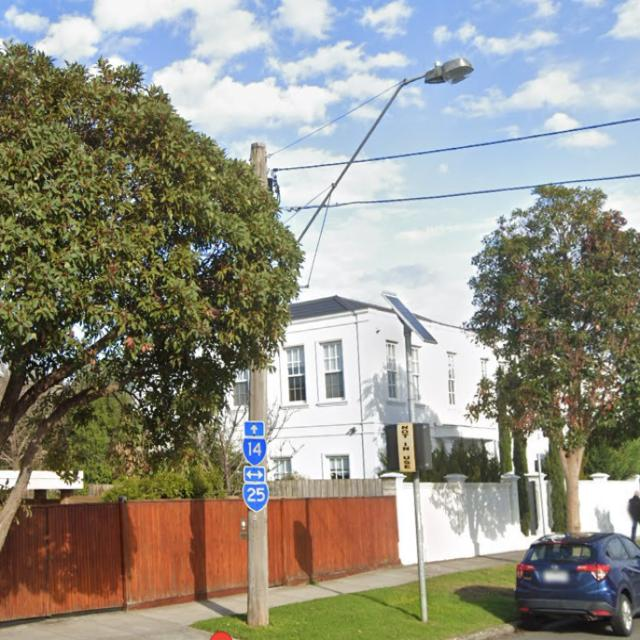streetlight: (267, 55, 474, 290)
timber-pole: (247, 142, 270, 628)
